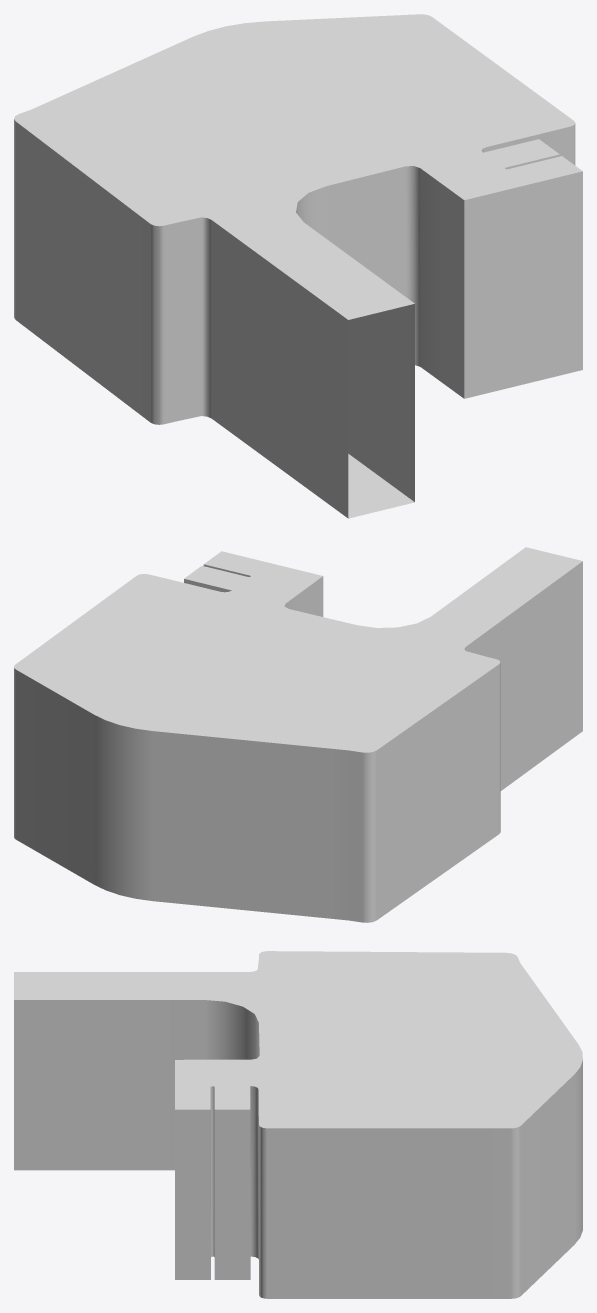
File: Salle.fbx
The picture shows the model from 3 angles, top to bottom: view 1: azimuth 30°, elevation 25°; view 2: azimuth 150°, elevation 25°; view 3: azimuth 270°, elevation 25°; orthographic projection. The views are drawn at different scales.
Parts seen in each view (by area): view 1: salle; view 2: salle; view 3: salle.
Boxes of the visible parts, <box> form: salle: <box>14,14,582,518</box>; salle: <box>14,547,582,922</box>; salle: <box>14,951,582,1298</box>.
Bounding box in the file's own units: 844 × 378 × 1145.
1 material, 1 textured.
